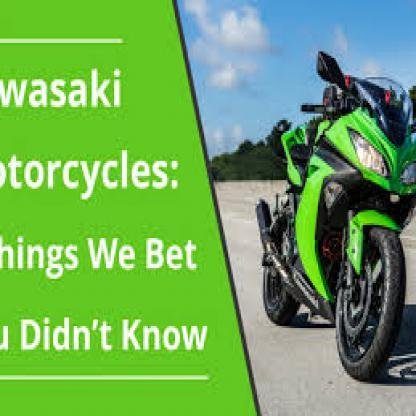Motorcycle: (246, 48, 414, 378)
